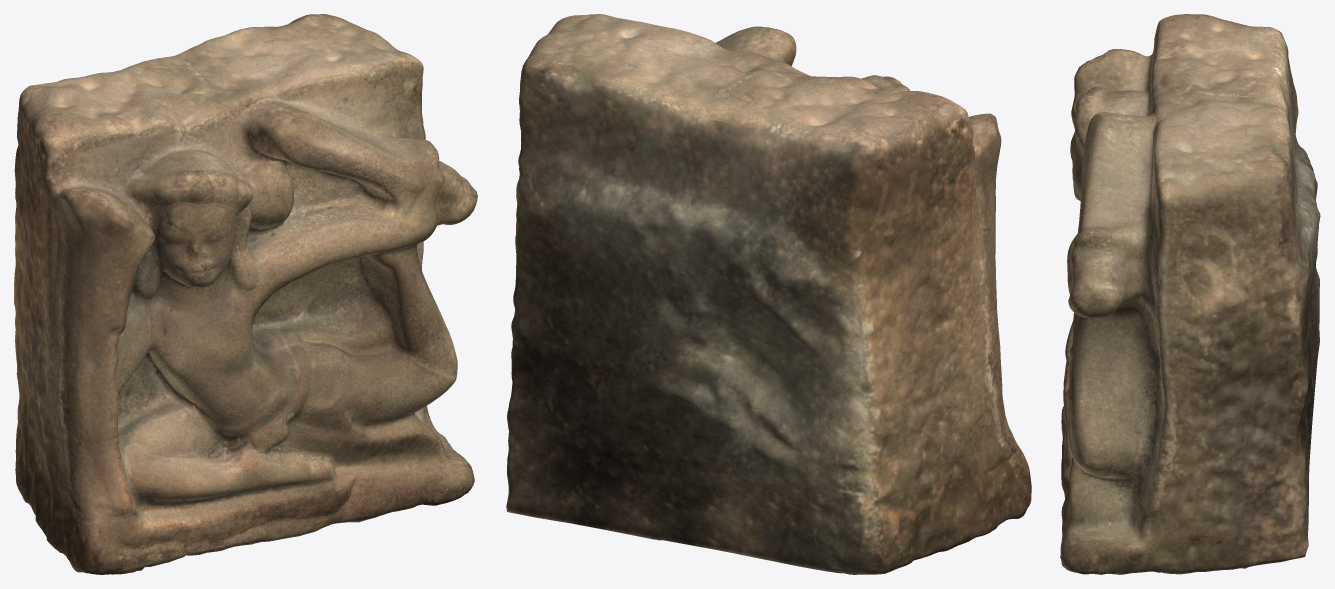
Rendered from 17_chienbinhbay_final.glb.
The picture shows the model from 3 angles, left to right: view 1: azimuth 30°, elevation 25°; view 2: azimuth 150°, elevation 25°; view 3: azimuth 270°, elevation 25°; orthographic projection. The views are drawn at different scales.
Bounding box in the file's own units: 0.4529 × 0.4543 × 0.2694.
1 material, 1 textured.
